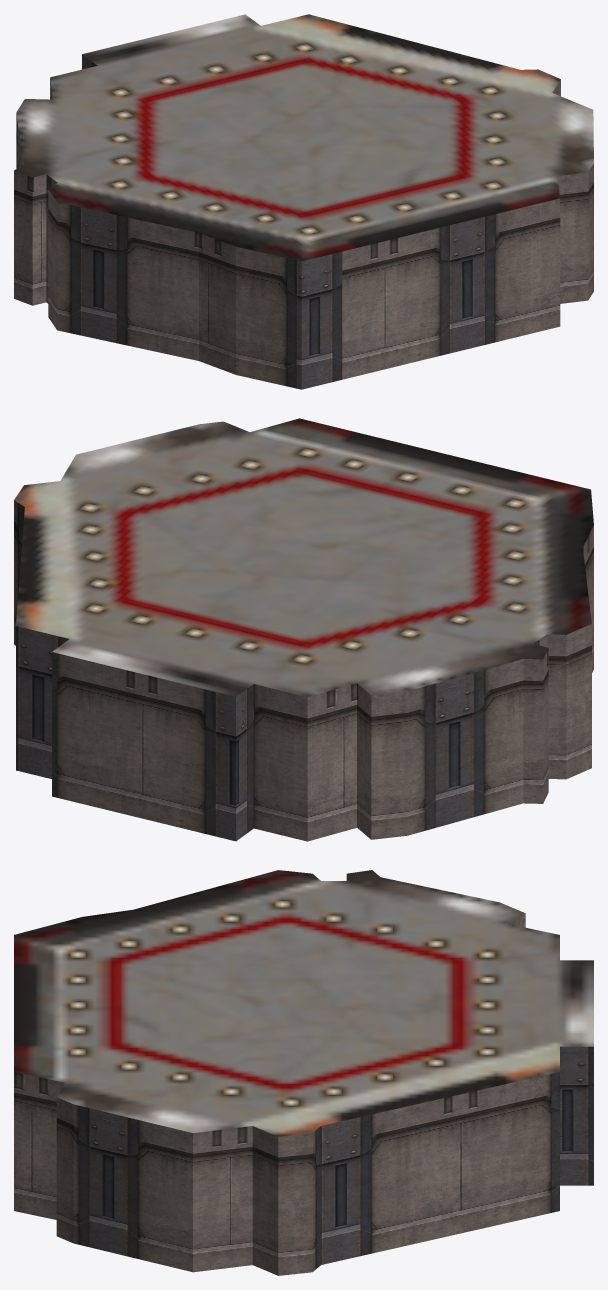
File: bsealed_heavy_37.glb
The picture shows the model from 3 angles, top to bottom: view 1: azimuth 30°, elevation 25°; view 2: azimuth 150°, elevation 25°; view 3: azimuth 270°, elevation 25°; orthographic projection. The views are drawn at different scales.
Parts seen in each view (by area): view 1: buildings/saxarba/bsealed_heavy/bsealed_heavy_37; view 2: buildings/saxarba/bsealed_heavy/bsealed_heavy_37; view 3: buildings/saxarba/bsealed_heavy/bsealed_heavy_37.
Boxes of the visible parts, left/top/right/bottom form: buildings/saxarba/bsealed_heavy/bsealed_heavy_37: left=14, top=14, right=593, bottom=389; buildings/saxarba/bsealed_heavy/bsealed_heavy_37: left=14, top=418, right=593, bottom=841; buildings/saxarba/bsealed_heavy/bsealed_heavy_37: left=14, top=870, right=593, bottom=1275.
Size of the model in its own units: 74 by 18 by 68.
